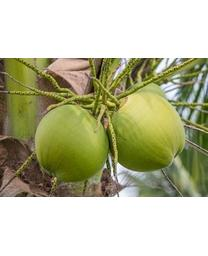coconut: (104, 87, 184, 173), (34, 99, 107, 183)
